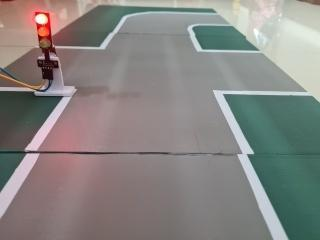red: (29, 5, 60, 66)
